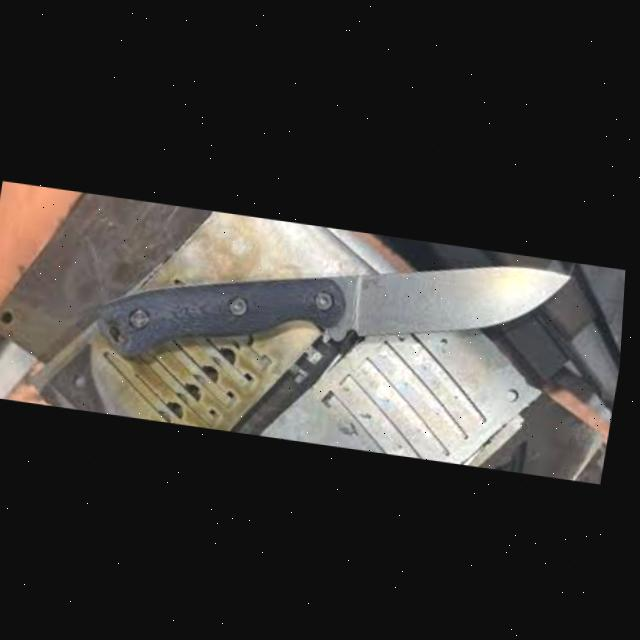knife: (91, 203, 578, 413)
